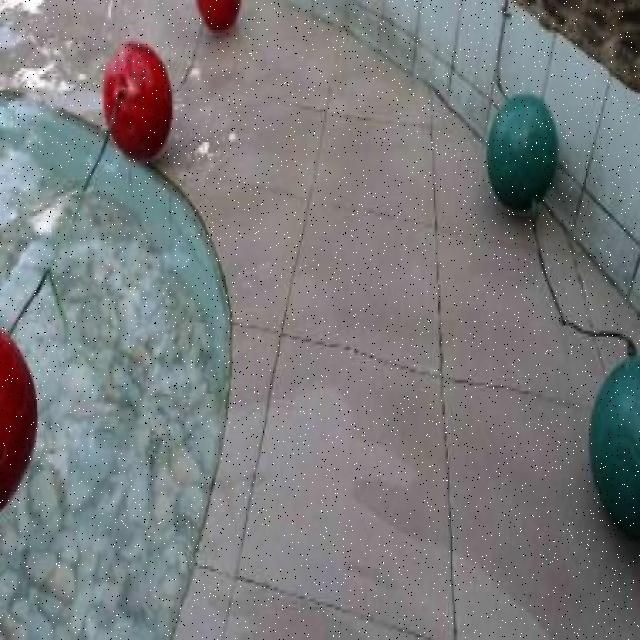buoy: (588, 352, 638, 540), (103, 38, 174, 158), (486, 96, 556, 210), (0, 324, 37, 508)
